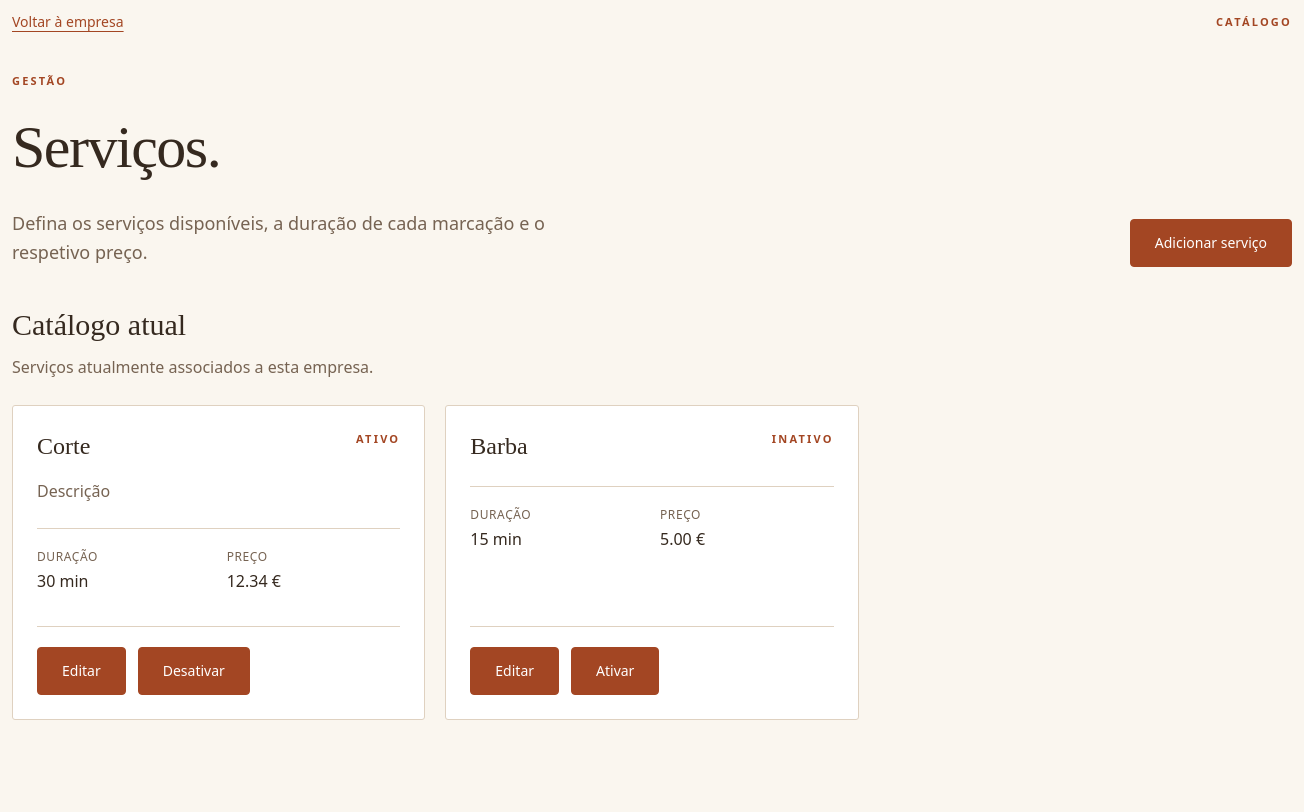
Test: ServicesPage › mostra falhas de ativação e permite repetir
Step 1. Click the button "Desativar" → click(194, 672), box x1=138 y1=648 x2=250 y2=696
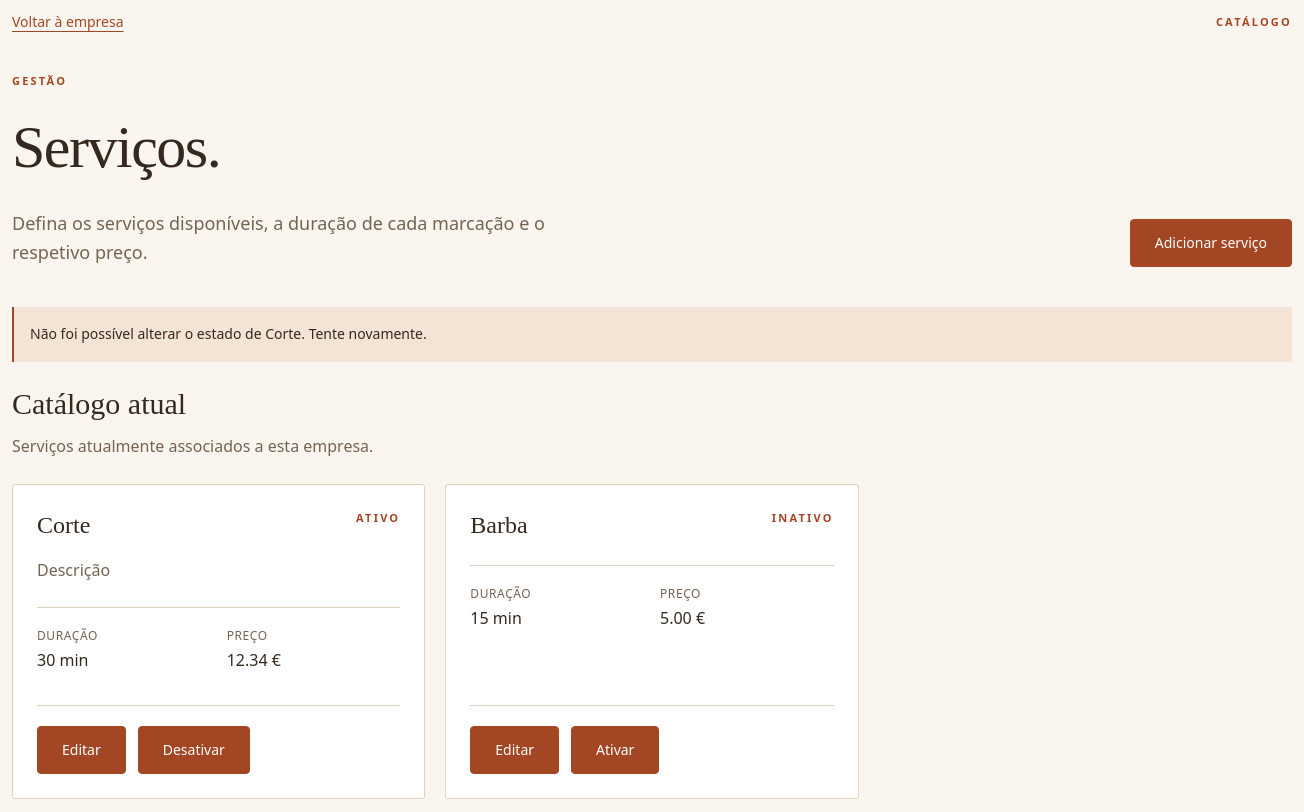
Expected: the button "Desativar" is enabled, x1=138 y1=726 x2=250 y2=774
Expected: the message shows "Corte", x1=30 y1=324 x2=427 y2=343
